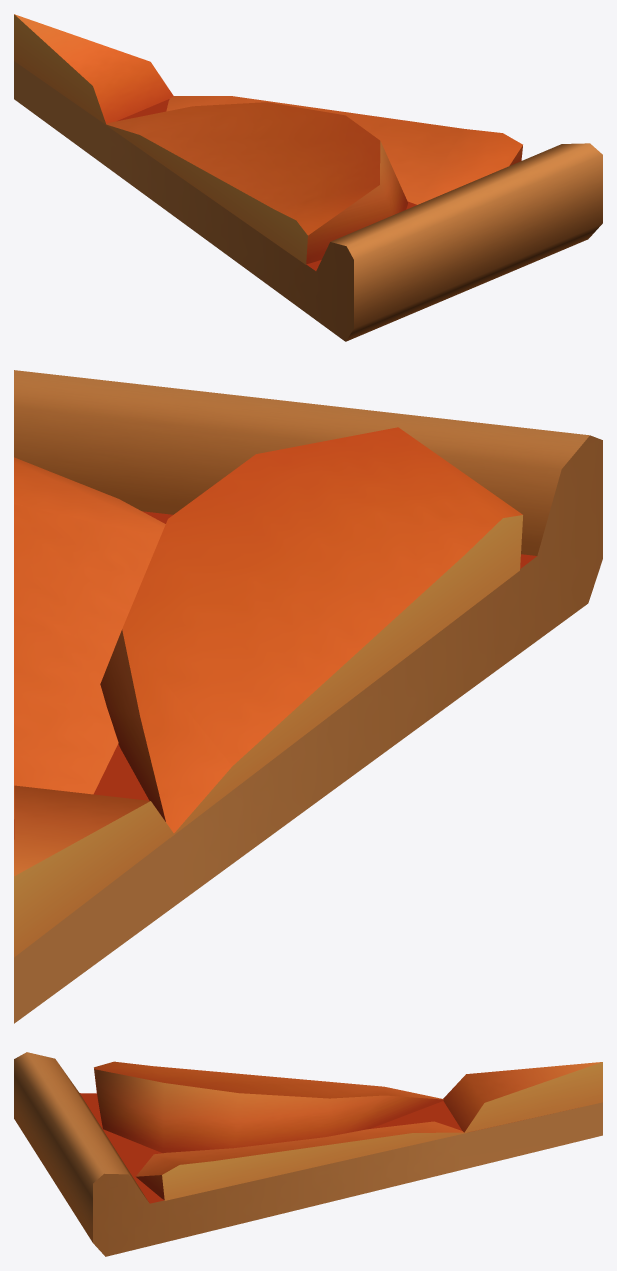
Rendered from m_TarteTatin01_Slice.fbx.
The picture shows the model from 3 angles, top to bottom: view 1: azimuth 30°, elevation 25°; view 2: azimuth 150°, elevation 25°; view 3: azimuth 270°, elevation 25°; orthographic projection. The views are drawn at different scales.
Visible parts, largest first — view 1: m_TarteTatin01_Slice; view 2: m_TarteTatin01_Slice; view 3: m_TarteTatin01_Slice.
Boxes of the visible parts, x1,y1,x2,y2 form: m_TarteTatin01_Slice: [14, 14, 602, 341]; m_TarteTatin01_Slice: [14, 370, 602, 1023]; m_TarteTatin01_Slice: [14, 1052, 602, 1256].
Bounding box in the file's own units: 7 × 2.63 × 14.
